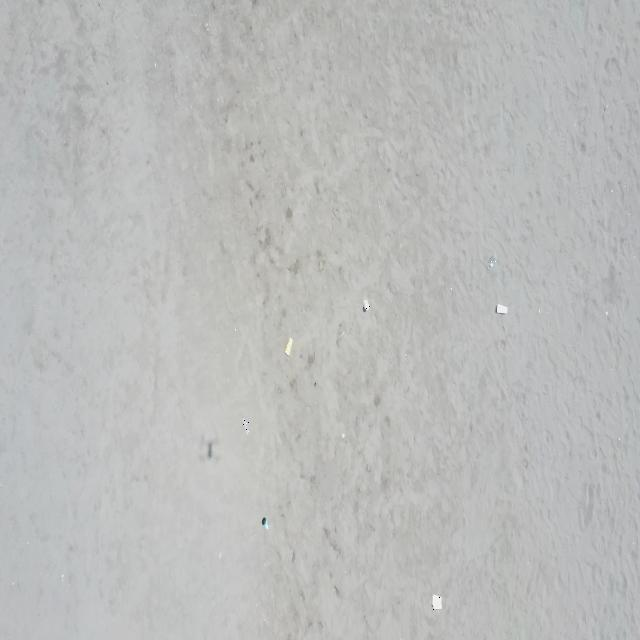take-away-containers: (432, 594, 442, 610)
takeaway-cup: (240, 417, 250, 436), (486, 254, 497, 271), (496, 302, 508, 316), (285, 338, 293, 356), (262, 517, 270, 531), (362, 299, 370, 312)
